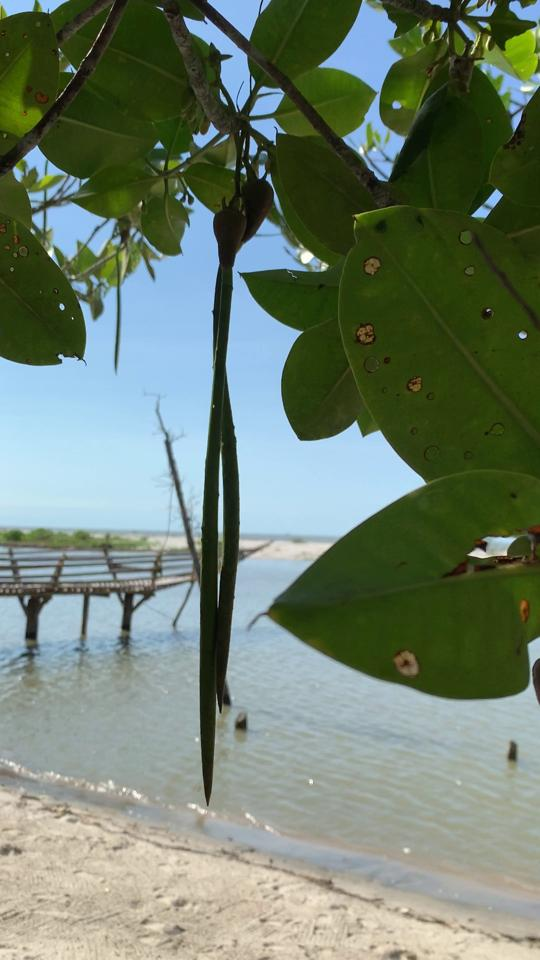setengah matang: (170, 155, 288, 812)
